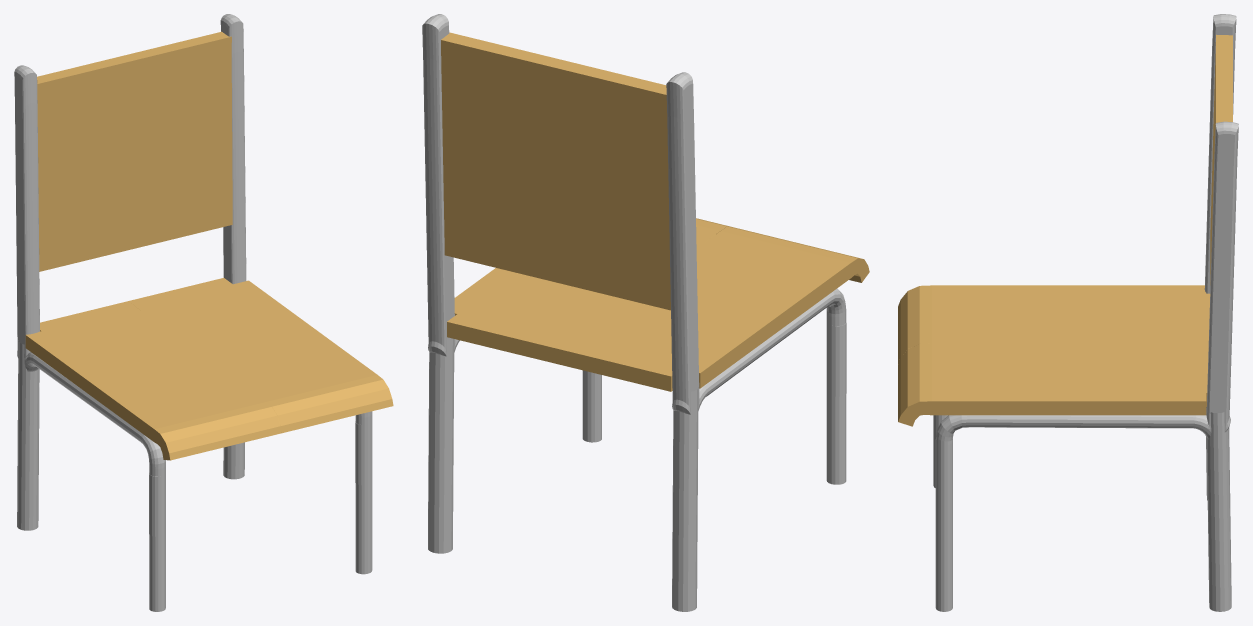
The model's file is classroom chair.fbx.
The picture shows the model from 3 angles, left to right: view 1: azimuth 30°, elevation 25°; view 2: azimuth 150°, elevation 25°; view 3: azimuth 270°, elevation 25°; orthographic projection. The views are drawn at different scales.
Parts seen in each view (by area): view 1: Cube, Cube.001, Cylinder.001, Cylinder; view 2: Cube.001, Cube, Cylinder.001, Cylinder; view 3: Cube, Cylinder, Cylinder.001, Cube.001.
Part boxes in pixels (x1=…): Cube: x1=25, y1=278, x2=393, y2=460; Cube.001: x1=37, y1=31, x2=232, y2=271; Cylinder.001: x1=14, y1=65, x2=165, y2=611; Cylinder: x1=220, y1=14, x2=372, y2=574; Cube.001: x1=441, y1=32, x2=670, y2=310; Cube: x1=447, y1=218, x2=869, y2=391; Cylinder.001: x1=666, y1=72, x2=846, y2=611; Cylinder: x1=422, y1=14, x2=601, y2=553; Cube: x1=898, y1=285, x2=1210, y2=426; Cylinder: x1=935, y1=121, x2=1238, y2=611; Cylinder.001: x1=933, y1=14, x2=1236, y2=500; Cube.001: x1=1210, y1=34, x2=1232, y2=285.
Bounding box in the file's own units: 203 × 391 × 249.
